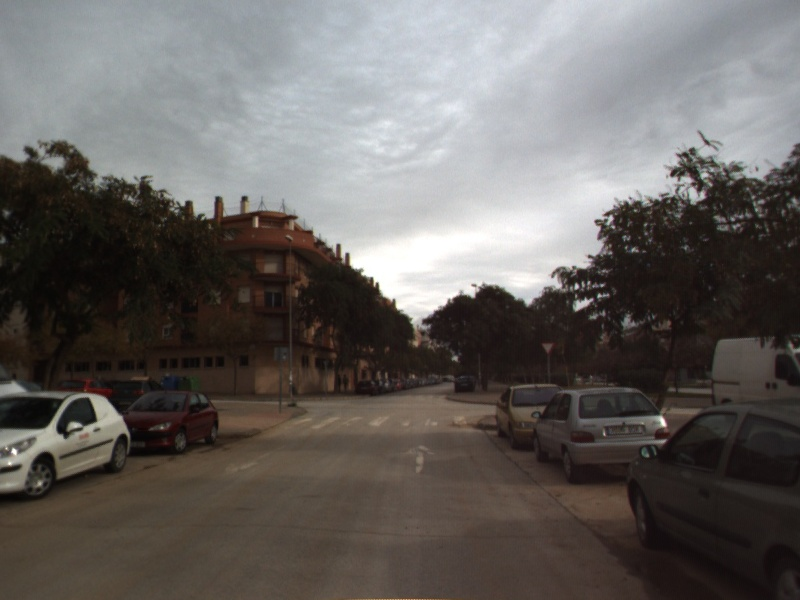STRAIGHT: (401, 442, 439, 475)
